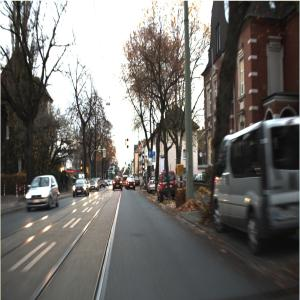go straight: (149, 151, 153, 159)
